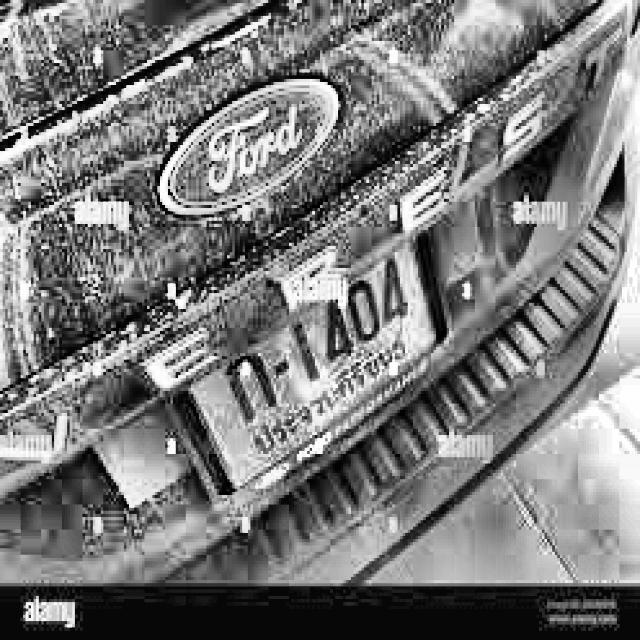license-plate: (164, 220, 450, 507)
